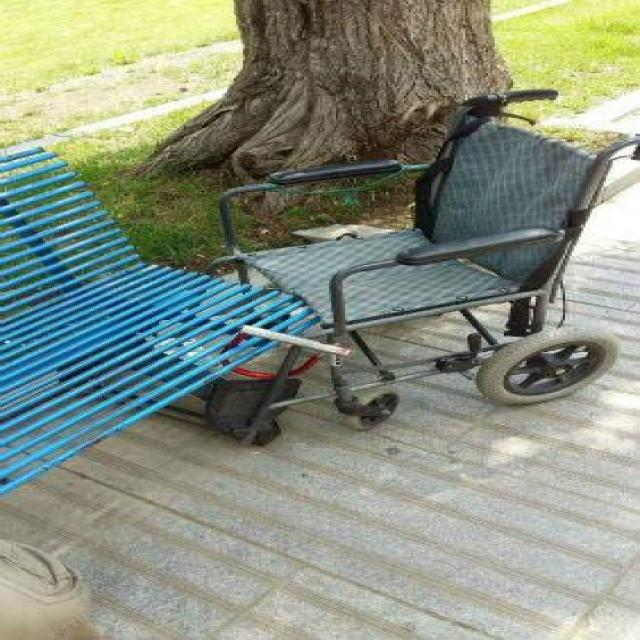wheelchairs: (162, 72, 636, 436)
